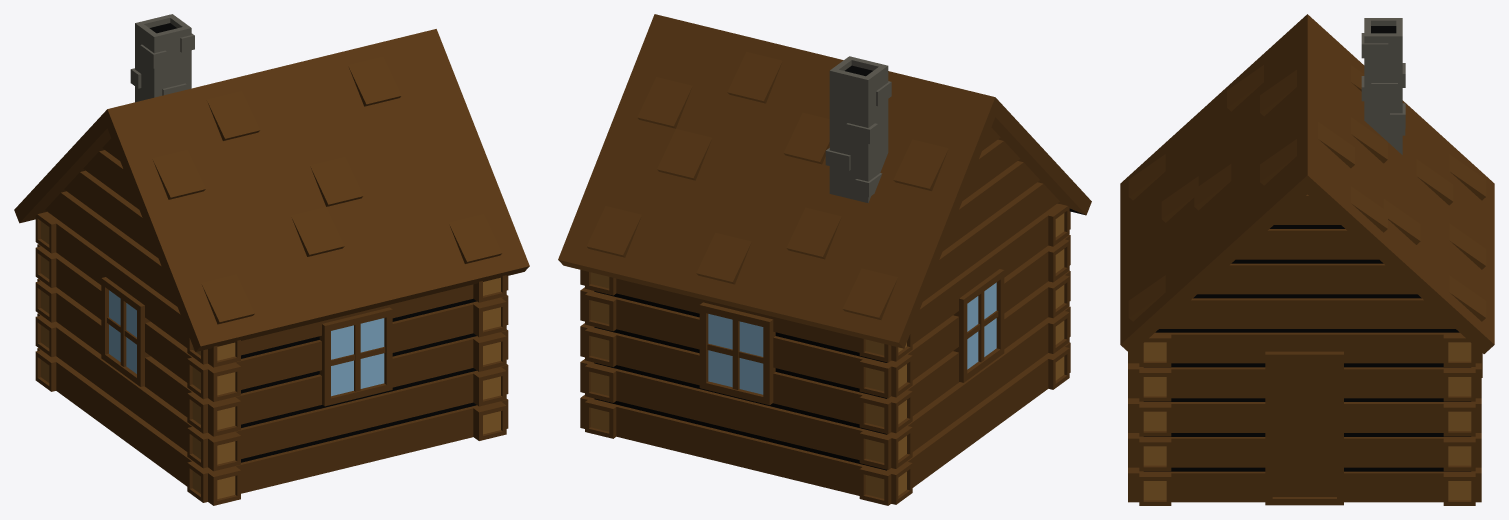
Rendered from ForestCabin.fbx.
The picture shows the model from 3 angles, left to right: view 1: azimuth 30°, elevation 25°; view 2: azimuth 150°, elevation 25°; view 3: azimuth 270°, elevation 25°; orthographic projection. The views are drawn at different scales.
Parts seen in each view (by area): view 1: ForestCabin; view 2: ForestCabin; view 3: ForestCabin.
Part boxes in pixels (x1,y1,x2,y2): ForestCabin: (14,14,529,505); ForestCabin: (558,14,1091,505); ForestCabin: (1120,14,1494,505).
Bounding box in the file's own units: 63.33 × 67.71 × 62.16.
